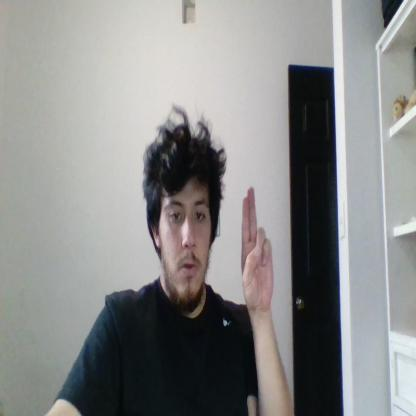U: (242, 186, 274, 309)
